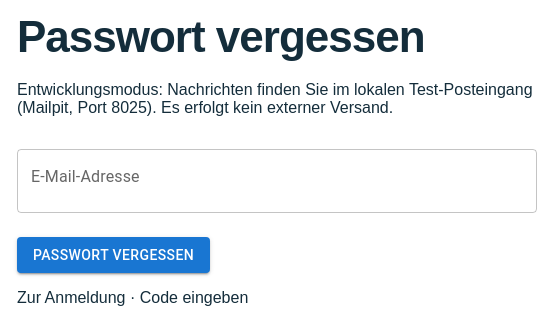
recovery request uses generic success and no account disclosure
The image size is (554, 323).
Step 1. Type "example@example.test" into the field labelled "E-Mail-Adresse" → (277, 181), box [17,151,537,210]
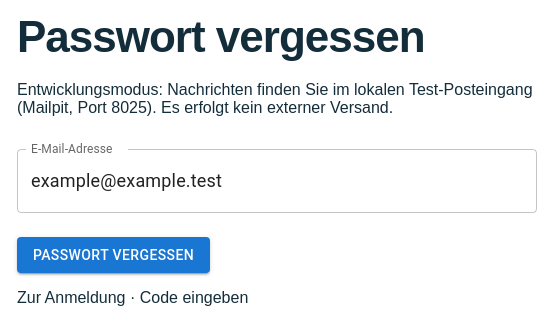
Step 2. Click the button "Passwort vergessen" → (114, 255), box [17,237,210,273]
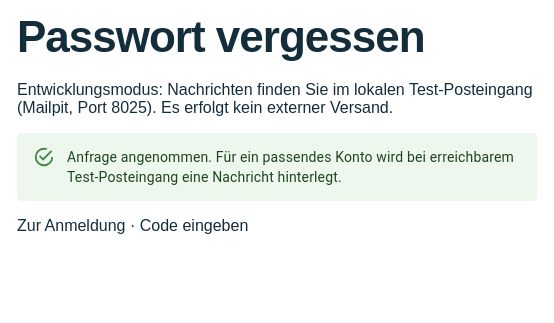
Now the message shows "Anfrage angenommen", box [67,149,514,185]
